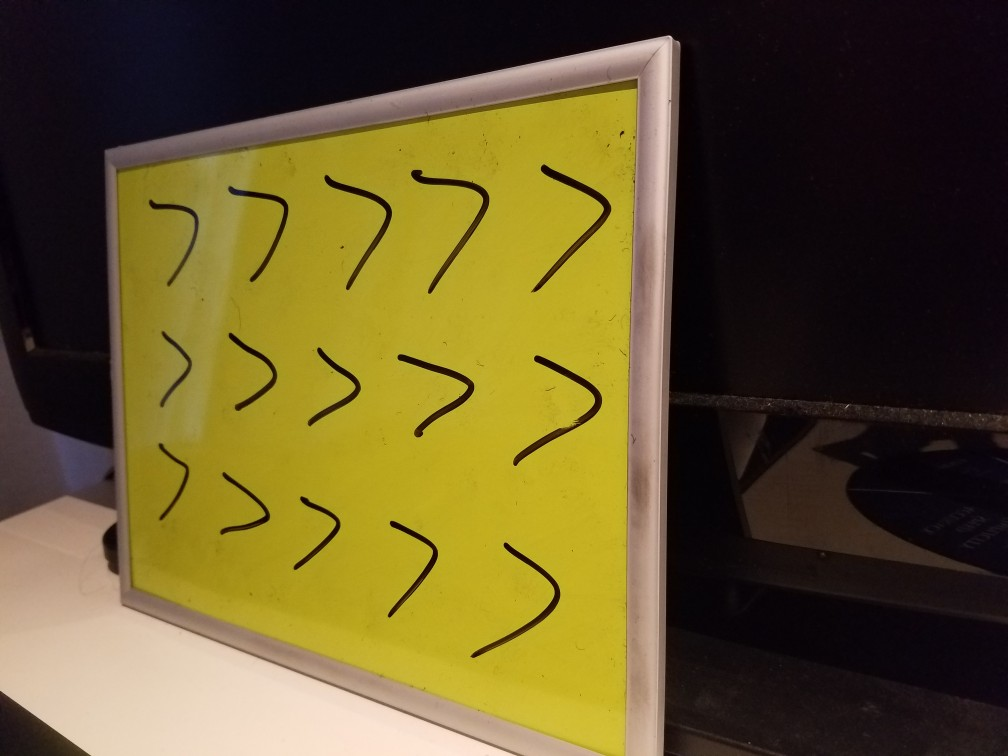>: (516, 124, 622, 303), (489, 327, 613, 480), (462, 520, 574, 675), (404, 142, 495, 293), (386, 321, 480, 452), (220, 158, 306, 300), (312, 148, 397, 289), (375, 499, 448, 632), (300, 321, 369, 442), (280, 473, 345, 595), (218, 317, 281, 426), (151, 174, 206, 291), (215, 454, 276, 547), (147, 312, 201, 417), (148, 426, 199, 526)
